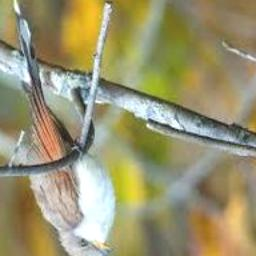Cuckoo: (13, 0, 115, 256)
